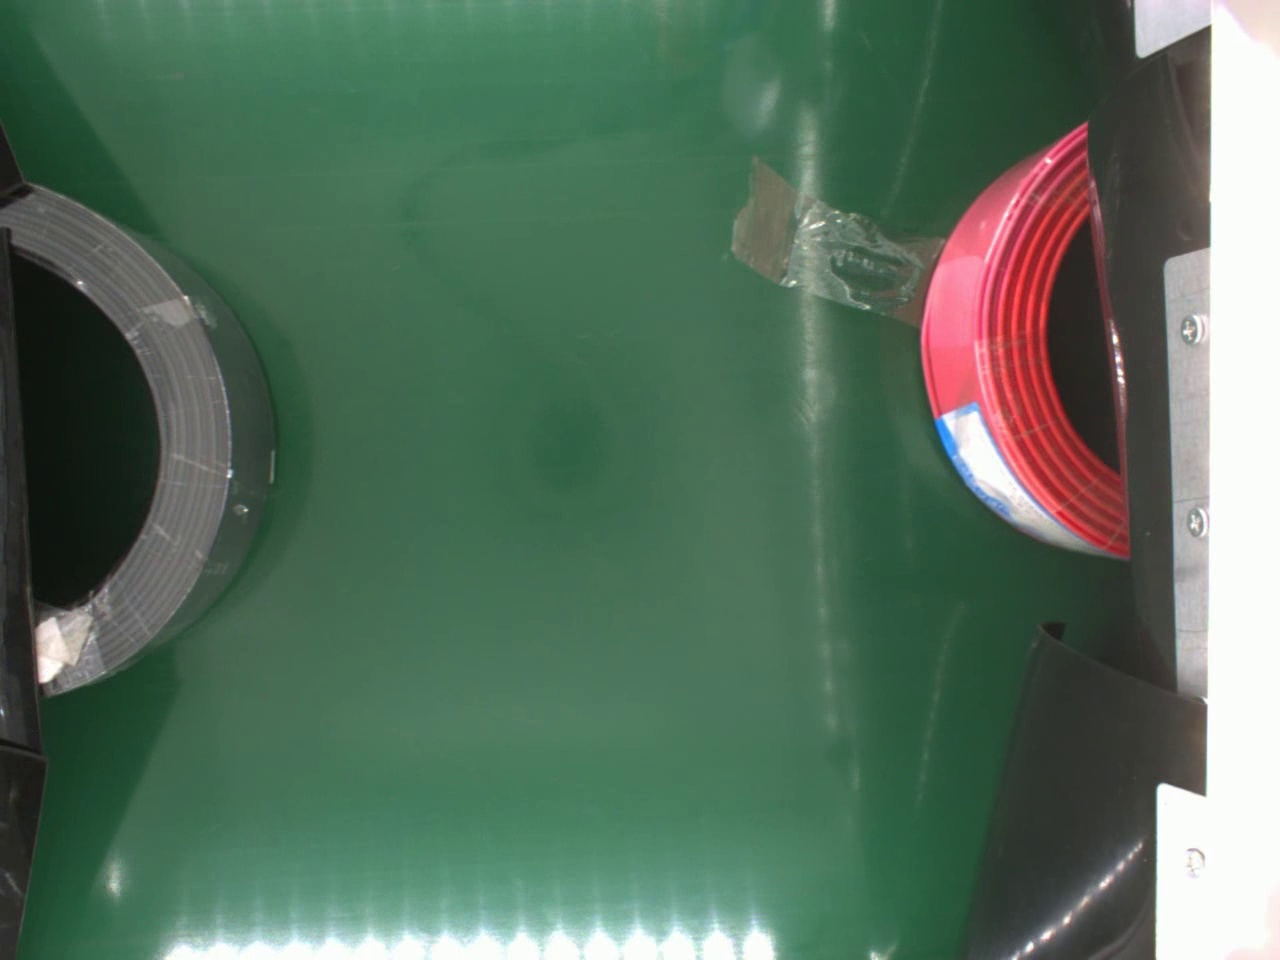black: (3, 179, 283, 696)
red: (914, 119, 1137, 567)
